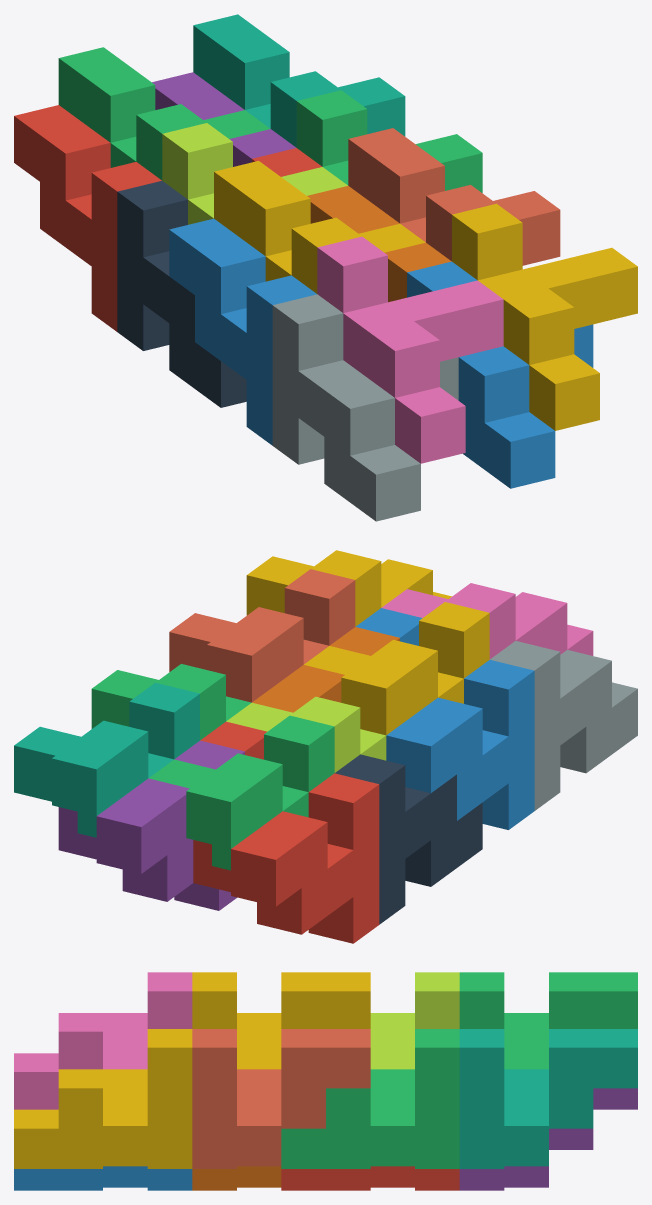
File: tiling.obj
3 views of the same model, one above another, from view 1: azimuth 30°, elevation 25°; view 2: azimuth 150°, elevation 25°; view 3: azimuth 270°, elevation 25° (orthographic). The views are drawn at different scales.
Parts seen in each view (by area): view 1: copy_2_domain_4, copy_2_domain_2, copy_2_domain_8, copy_1_domain_1, copy_1_domain_2, copy_2_domain_1, copy_2_domain_6, copy_1_domain_8, copy_1_domain_7, copy_1_domain_3, copy_1_domain_4, copy_2_domain_7 (+4 smaller); view 2: copy_1_domain_1, copy_1_domain_2, copy_1_domain_7, copy_1_domain_8, copy_1_domain_3, copy_1_domain_5, copy_2_domain_2, copy_1_domain_4, copy_2_domain_1, copy_2_domain_4, copy_2_domain_8, copy_2_domain_7 (+4 smaller); view 3: copy_1_domain_7, copy_2_domain_8, copy_1_domain_8, copy_2_domain_7, copy_2_domain_4, copy_1_domain_3, copy_1_domain_4, copy_2_domain_3, copy_1_domain_5, copy_2_domain_5, copy_2_domain_6, copy_1_domain_6.
Boxes of the visible parts, left/top/right/bottom form: copy_2_domain_4: left=317, top=236, right=503, bottom=463; copy_2_domain_2: left=272, top=294, right=458, bottom=521; copy_2_domain_8: left=452, top=203, right=637, bottom=430; copy_1_domain_1: left=14, top=105, right=161, bottom=331; copy_1_domain_2: left=169, top=218, right=316, bottom=445; copy_2_domain_1: left=117, top=181, right=246, bottom=407; copy_2_domain_6: left=407, top=261, right=593, bottom=488; copy_1_domain_8: left=348, top=128, right=560, bottom=265; copy_1_domain_7: left=193, top=14, right=405, bottom=147; copy_1_domain_3: left=58, top=47, right=270, bottom=180; copy_1_domain_4: left=214, top=161, right=425, bottom=293; copy_2_domain_7: left=296, top=90, right=482, bottom=192; copy_1_domain_1: left=193, top=773, right=379, bottom=943; copy_1_domain_2: left=386, top=660, right=534, bottom=829; copy_1_domain_7: left=14, top=682, right=199, bottom=837; copy_1_domain_8: left=169, top=569, right=355, bottom=702; copy_1_domain_3: left=149, top=715, right=334, bottom=870; copy_1_domain_5: left=58, top=740, right=244, bottom=910; copy_2_domain_2: left=490, top=641, right=637, bottom=810; copy_1_domain_4: left=304, top=602, right=489, bottom=735; copy_2_domain_1: left=335, top=754, right=482, bottom=924; copy_2_domain_4: left=381, top=583, right=593, bottom=659; copy_2_domain_8: left=246, top=550, right=451, bottom=626; copy_2_domain_7: left=91, top=664, right=251, bottom=740; copy_1_domain_7: left=459, top=1029, right=637, bottom=1168; copy_2_domain_8: left=14, top=1029, right=192, bottom=1168; copy_1_domain_8: left=192, top=1029, right=370, bottom=1168; copy_2_domain_7: left=281, top=1029, right=459, bottom=1168; copy_2_domain_4: left=14, top=972, right=192, bottom=1109; copy_1_domain_3: left=459, top=972, right=637, bottom=1069; copy_1_domain_4: left=192, top=972, right=370, bottom=1069; copy_2_domain_3: left=370, top=972, right=459, bottom=1069; copy_1_domain_5: left=459, top=1088, right=637, bottom=1190; copy_2_domain_5: left=281, top=1166, right=459, bottom=1190; copy_2_domain_6: left=14, top=1166, right=192, bottom=1190; copy_1_domain_6: left=192, top=1166, right=281, bottom=1190.
Size of the model in its own units: 7 by 4 by 14.
